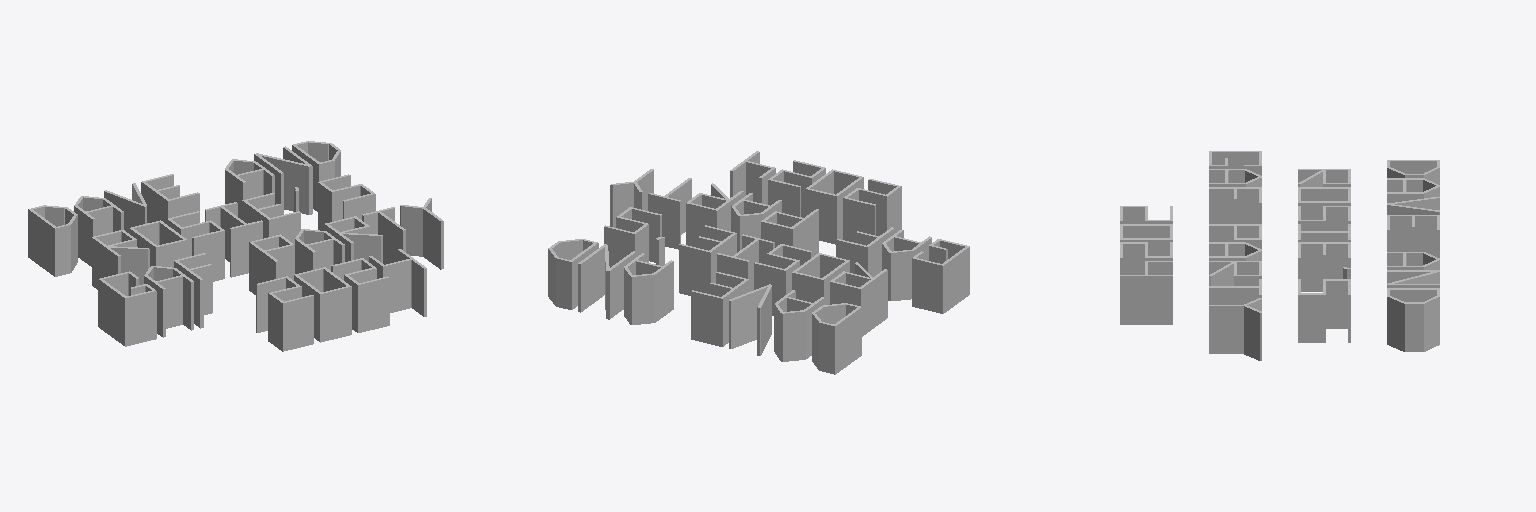
Rendered from dave and rosie.obj.
3 views of the same model, side by side, from view 1: azimuth 30°, elevation 25°; view 2: azimuth 150°, elevation 25°; view 3: azimuth 270°, elevation 25° (orthographic).
Visible parts, largest first — view 1: Text.001; view 2: Text.001; view 3: Text.001.
Boxes of the visible parts, x1,y1,x2,y2 form: Text.001: [28, 141, 443, 351]; Text.001: [548, 151, 969, 374]; Text.001: [1120, 151, 1439, 360].
Bounding box in the file's own units: 4.32 × 0.6 × 3.6.